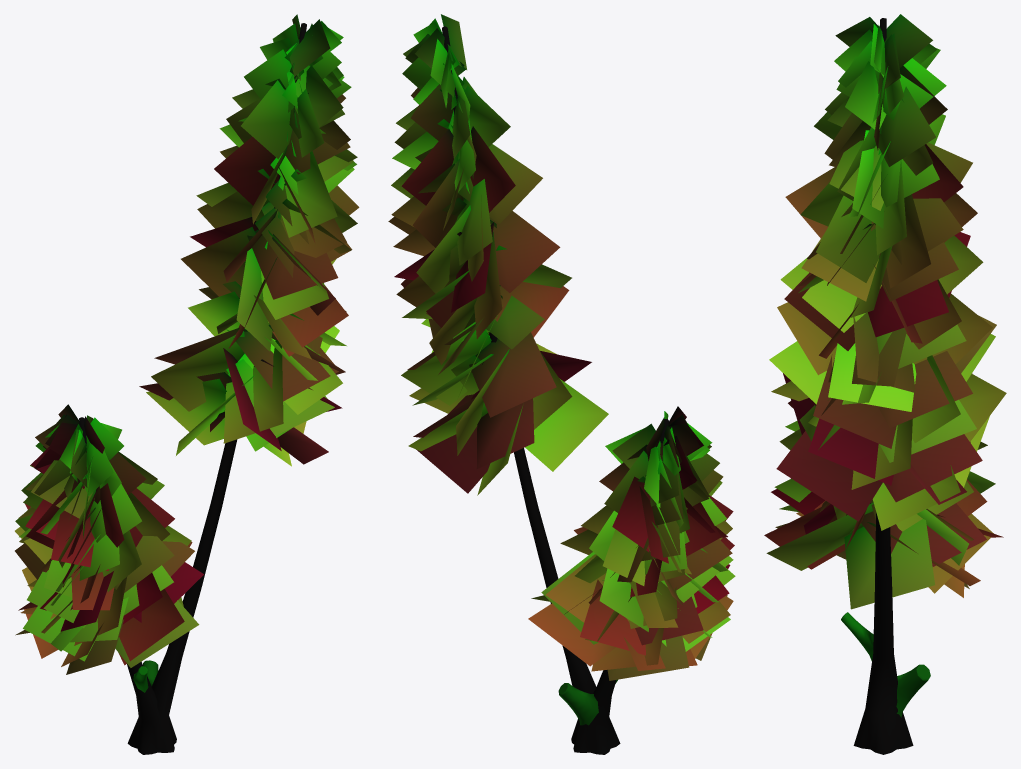
The model's file is M_Pine_2_17.fbx.
3 views of the same model, side by side, from view 1: azimuth 30°, elevation 25°; view 2: azimuth 150°, elevation 25°; view 3: azimuth 270°, elevation 25° (orthographic). The views are drawn at different scales.
Visible parts, largest first — view 1: Tree_17; view 2: Tree_17; view 3: Tree_17.
Part boxes in pixels (x1,y1,x2,y2): Tree_17: (15, 14, 359, 754); Tree_17: (388, 14, 735, 754); Tree_17: (764, 14, 1006, 754).
Size of the model in its own units: 1121 by 2296 by 618.
